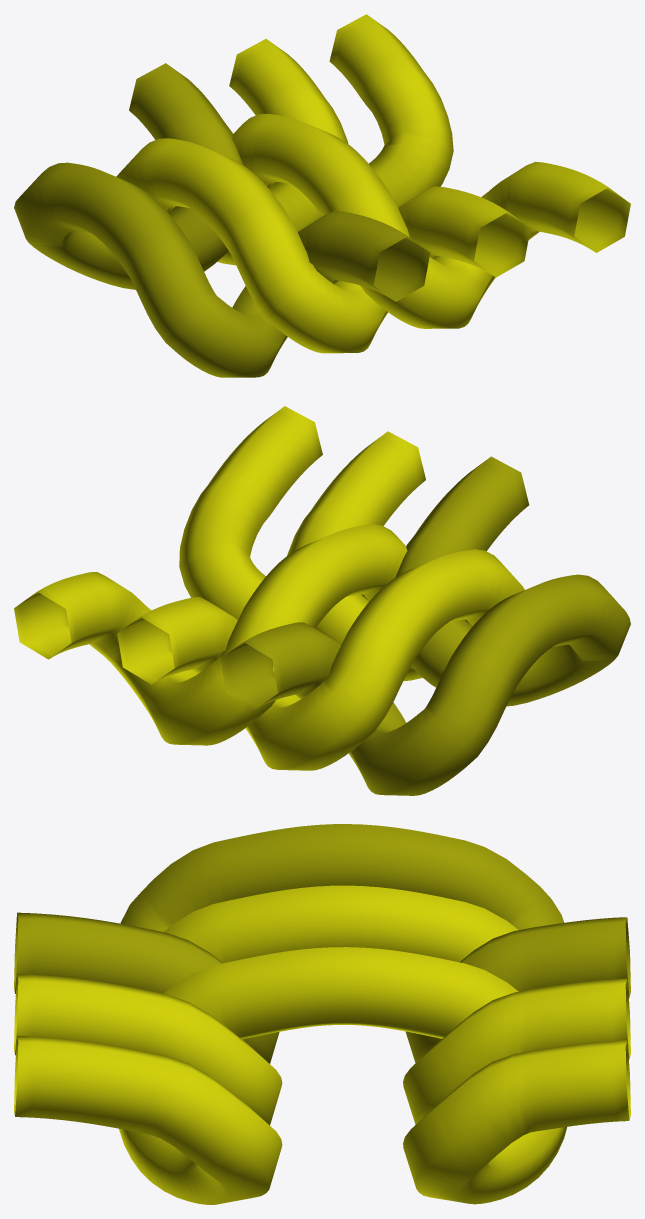
Rendered from stich.obj.
3 views of the same model, one above another, from view 1: azimuth 30°, elevation 25°; view 2: azimuth 150°, elevation 25°; view 3: azimuth 270°, elevation 25° (orthographic). The views are drawn at different scales.
Size of the model in its own units: 2.06 by 0.7819 by 2.12.
